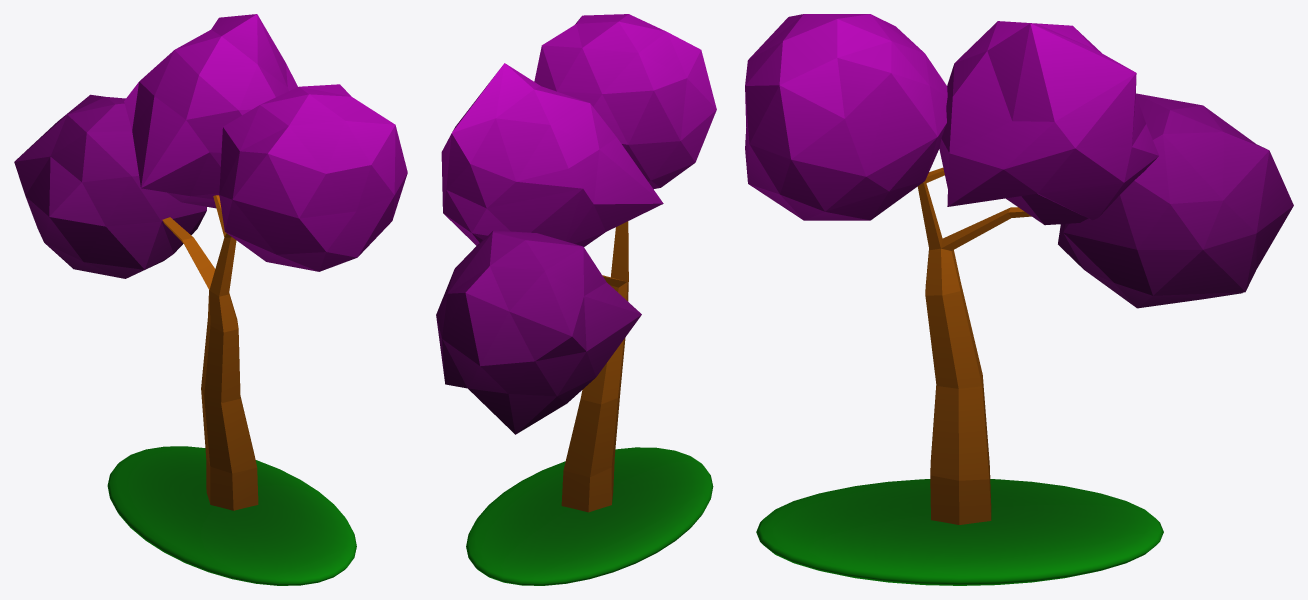
The model's file is tree.glb.
The picture shows the model from 3 angles, left to right: view 1: azimuth 30°, elevation 25°; view 2: azimuth 150°, elevation 25°; view 3: azimuth 270°, elevation 25°; orthographic projection. The views are drawn at different scales.
Parts seen in each view (by area): view 1: Icosphere, Sphere, Icosphere.002, Icosphere.001, Cube; view 2: Icosphere.002, Icosphere.001, Sphere, Icosphere, Cube; view 3: Icosphere, Icosphere.001, Sphere, Icosphere.002, Cube.
Boxes of the visible parts, x1,y1,x2,y2 form: Icosphere: (219,84,407,271); Sphere: (107,446,356,585); Icosphere.002: (14,94,206,278); Icosphere.001: (124,14,297,208); Cube: (162,195,258,510); Icosphere.002: (436,230,641,434); Icosphere.001: (441,63,663,246); Sphere: (466,447,713,585); Icosphere: (534,14,716,189); Cube: (561,221,628,512); Icosphere: (745,14,947,220); Icosphere.001: (939,21,1159,225); Sphere: (756,479,1163,585); Icosphere.002: (1058,93,1293,308); Cube: (917,167,1031,524).
Size of the model in its own units: 9.98 by 20.91 by 18.57.
1 material, 1 textured.
